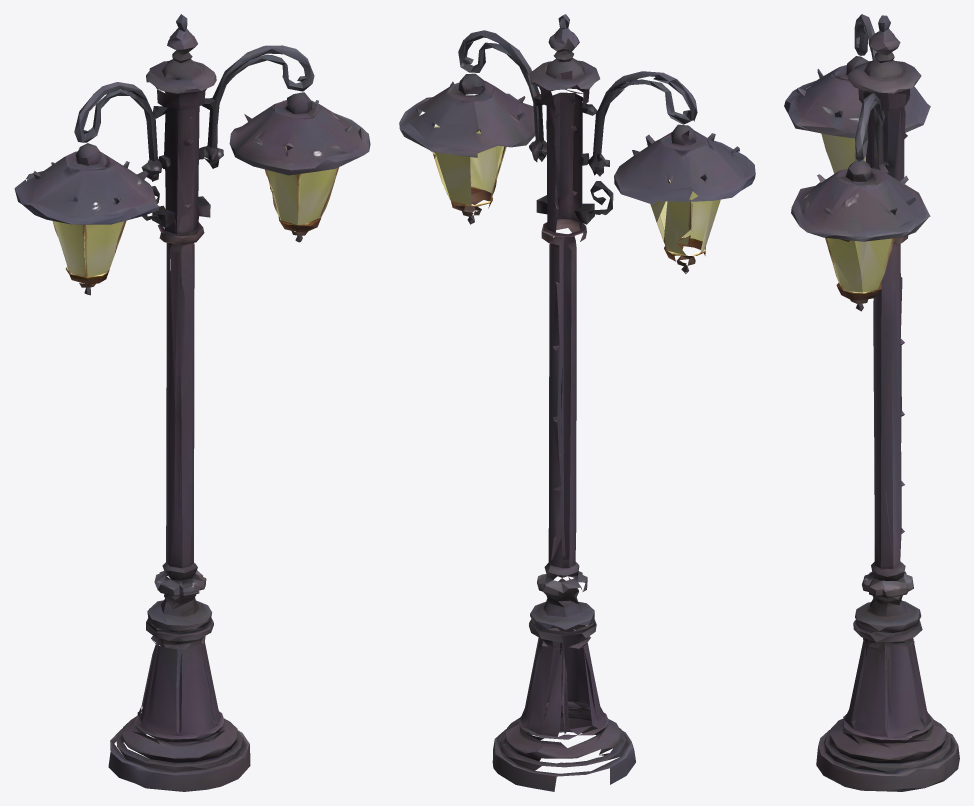
The model's file is M-5_01_lamp.glb.
3 renders of one model, left to right at view 1: azimuth 30°, elevation 25°; view 2: azimuth 150°, elevation 25°; view 3: azimuth 270°, elevation 25°, orthographic.
Visible parts, largest first — view 1: M-5_01_lamp; view 2: M-5_01_lamp; view 3: M-5_01_lamp.
Boxes of the visible parts, box(x1,y1,x2,y2) form: M-5_01_lamp: box(14, 14, 370, 791); M-5_01_lamp: box(399, 14, 755, 791); M-5_01_lamp: box(784, 14, 959, 791).
Size of the model in its own units: 2.44 by 5.21 by 1.11.
2 materials, 2 textured.
